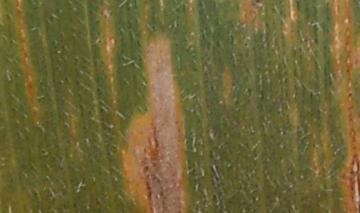tarspot: (141, 163, 152, 200), (151, 125, 160, 150), (211, 192, 219, 205), (308, 89, 314, 99), (96, 38, 103, 45), (94, 85, 101, 92), (347, 90, 353, 98), (253, 1, 262, 5)
